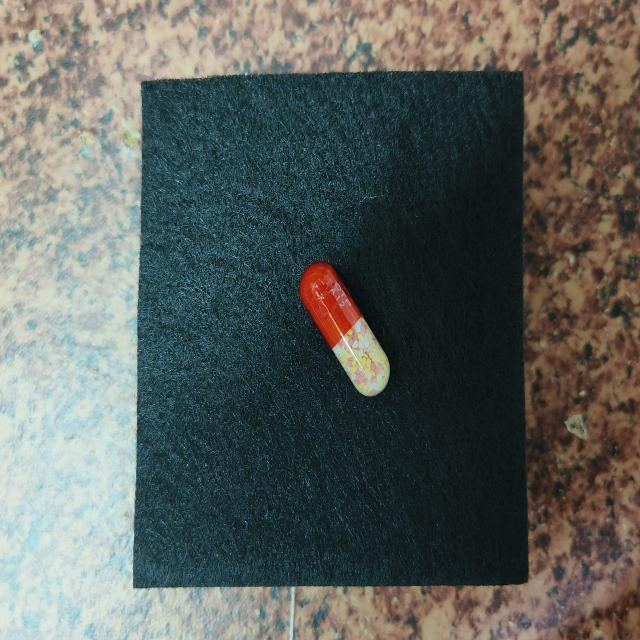Intact Capsule: (300, 262, 390, 396)
